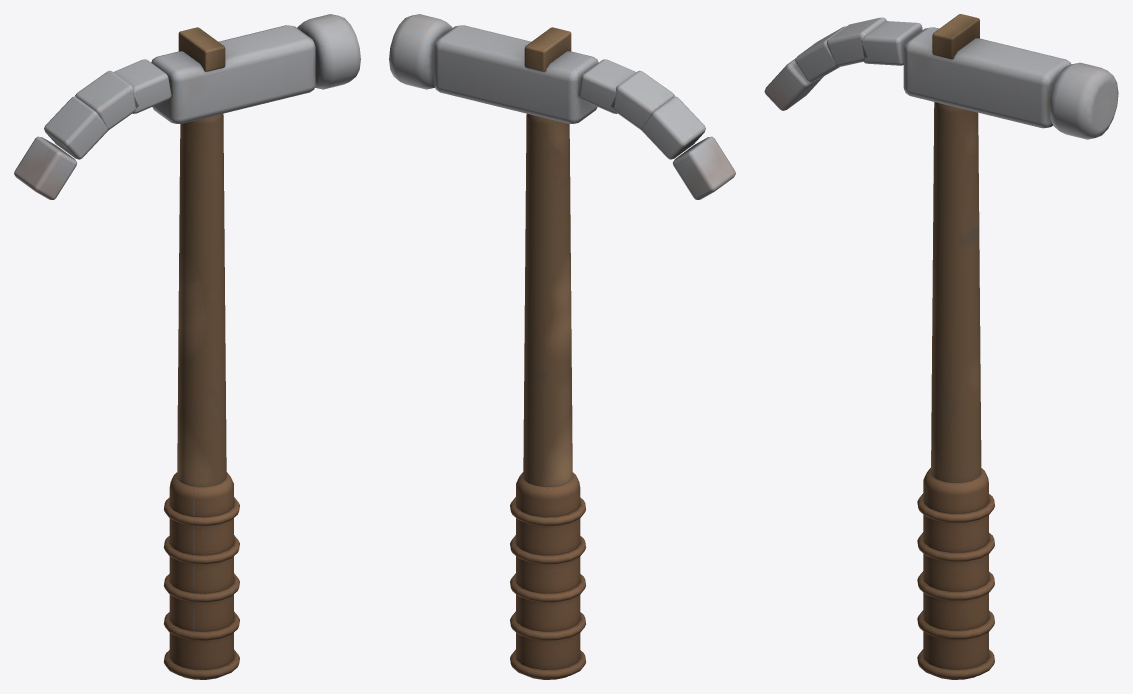
The model's file is hammer.glb.
3 views of the same model, side by side, from view 1: azimuth 30°, elevation 25°; view 2: azimuth 150°, elevation 25°; view 3: azimuth 330°, elevation 25° (orthographic). The views are drawn at different scales.
Parts seen in each view (by area): view 1: Hammer; view 2: Hammer; view 3: Hammer.
Boxes of the visible parts, x1,y1,x2,y2 form: Hammer: [14, 14, 360, 679]; Hammer: [389, 14, 735, 679]; Hammer: [764, 14, 1118, 679].
Bounding box in the file's own units: 0.3105 × 0.58 × 0.064.
4 materials, 4 textured.
